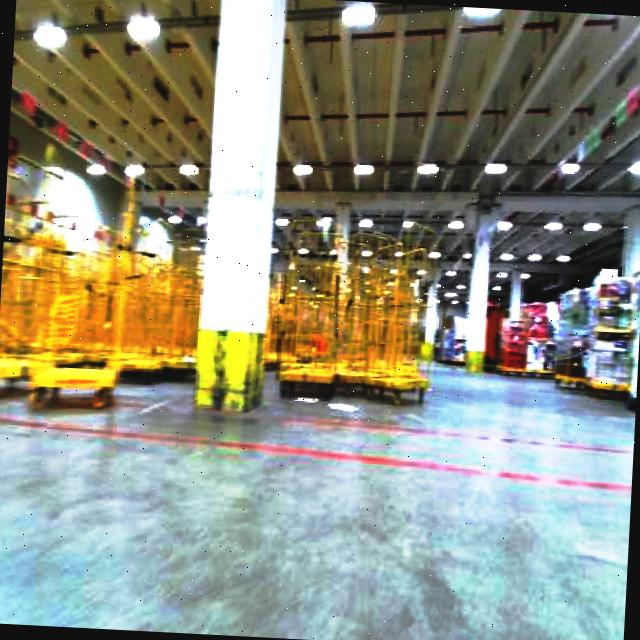ground: (0, 334, 638, 640)
pallet: (0, 202, 441, 427), (0, 231, 207, 415), (270, 219, 439, 406), (553, 257, 640, 410), (29, 360, 124, 411), (625, 258, 640, 410)
